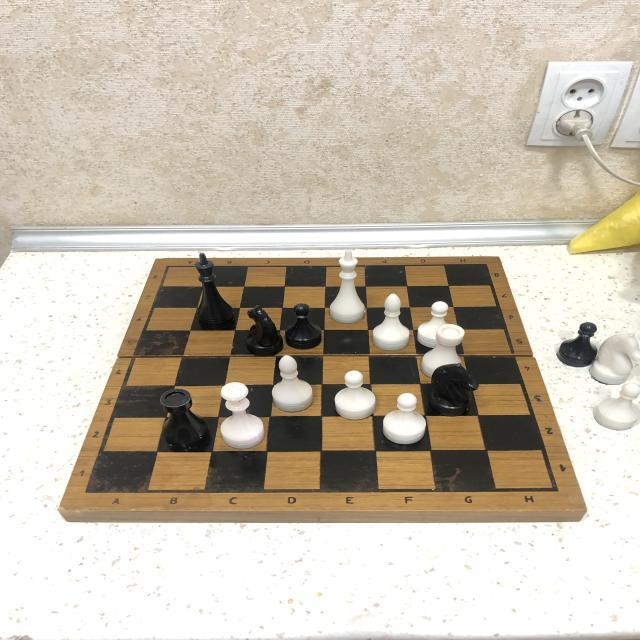chess-table-corners: (536, 476, 575, 502), (72, 478, 108, 504), (158, 260, 181, 276), (473, 258, 496, 273)
